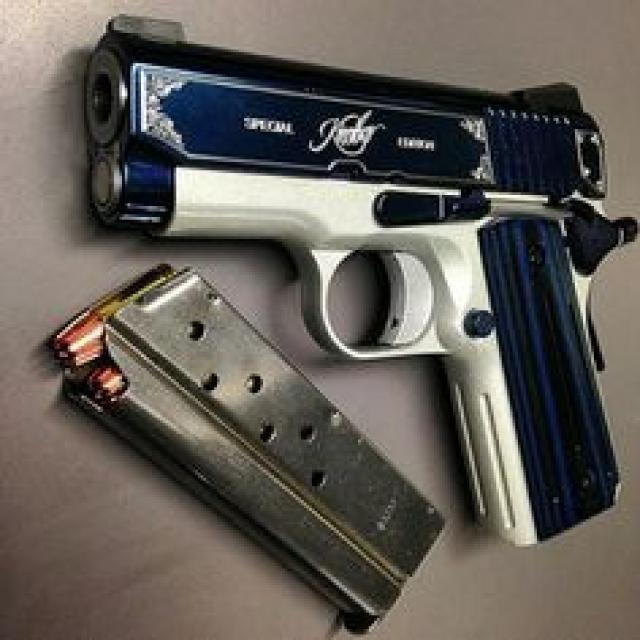semi automatic: (75, 5, 640, 577)
